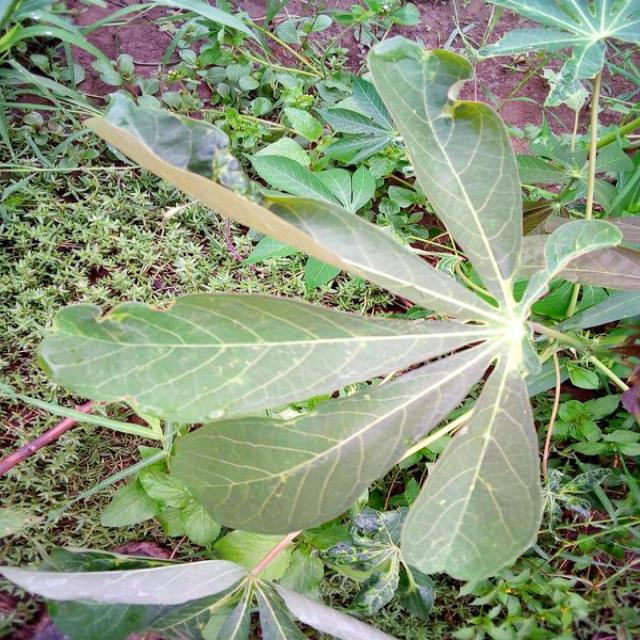cassava leaf: (37, 33, 638, 586), (36, 291, 491, 426), (366, 33, 524, 296), (399, 358, 544, 584)
